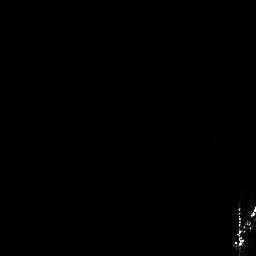ship: (228, 201, 256, 252)
